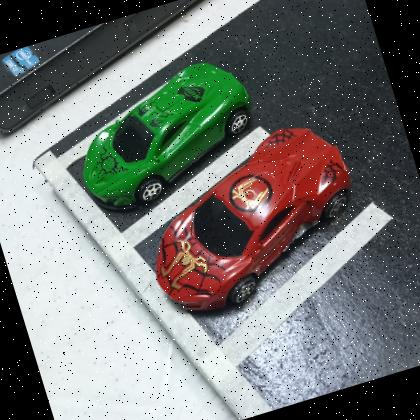Car: (122, 110, 380, 329), (60, 49, 272, 219)
